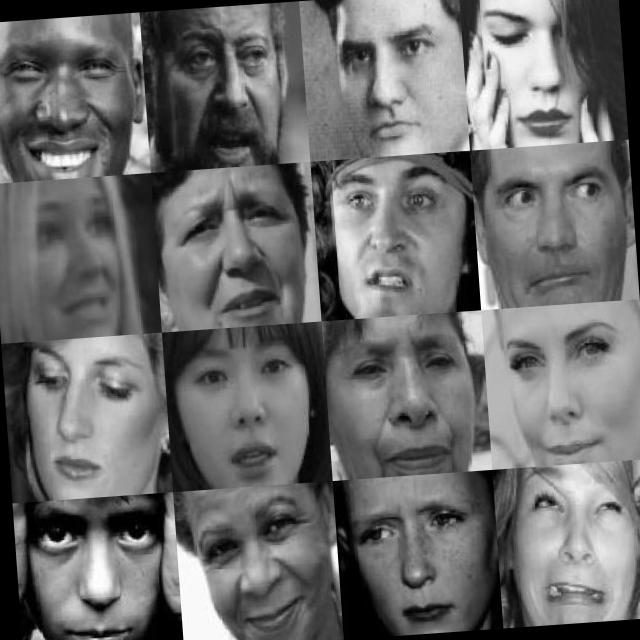angry: (160, 180, 314, 334), (326, 164, 470, 318)
fear: (9, 183, 134, 340)
happy: (477, 145, 627, 308), (0, 13, 145, 180), (501, 312, 640, 466), (189, 503, 339, 640), (509, 482, 640, 627)
neutral: (19, 339, 158, 502), (329, 0, 468, 157), (22, 500, 171, 640)
sad: (328, 324, 480, 479), (154, 5, 291, 169), (346, 484, 488, 638), (170, 346, 316, 488), (473, 0, 605, 145)
